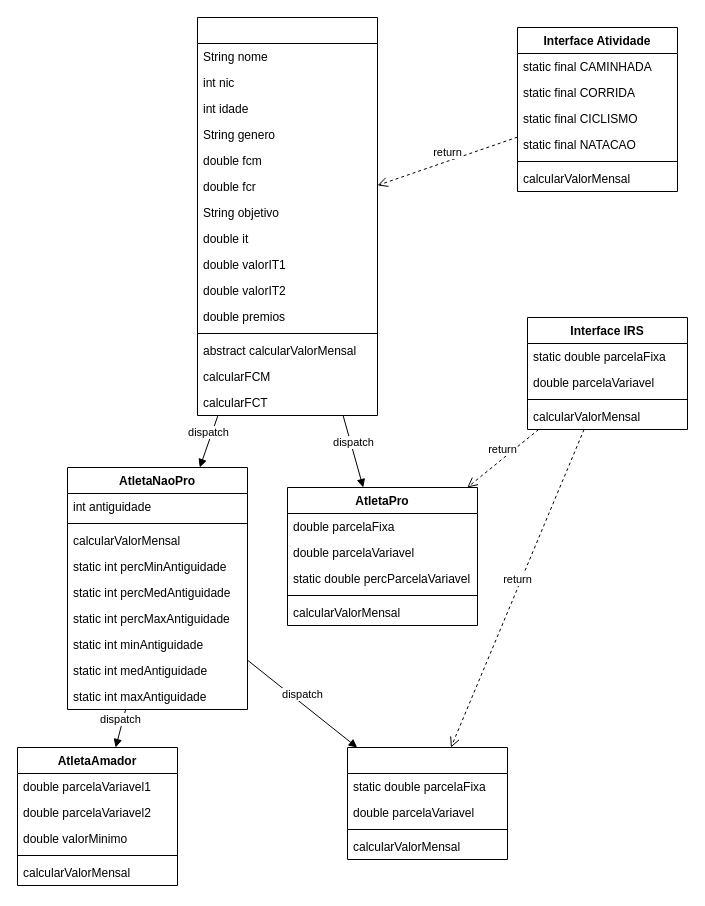
The diagram is 705 pixels wide and 906 high, and some of its shapes have lost their labels. The shapes that lost their labels are listed below. From the top down, each one's box as (x1, y1, x2, y2) in pixels, then its label:
(196, 16, 378, 416): Atleta
(346, 746, 508, 860): AtletaSemiPro
